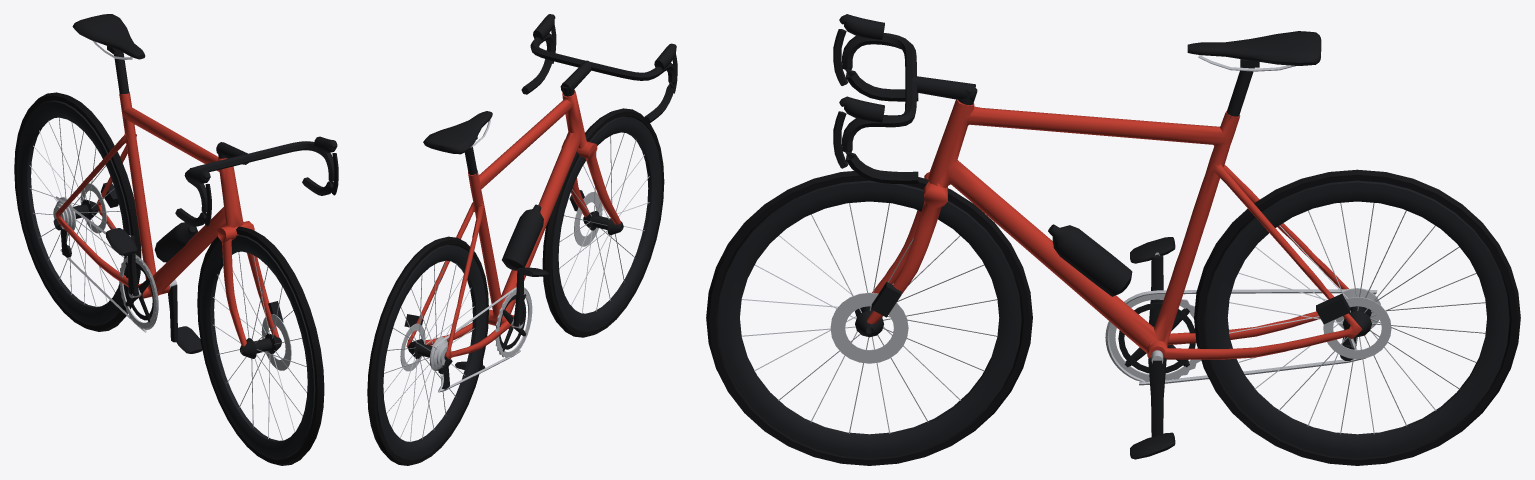
The model's file is bike.glb.
The picture shows the model from 3 angles, left to right: view 1: azimuth 30°, elevation 25°; view 2: azimuth 150°, elevation 25°; view 3: azimuth 270°, elevation 25°; orthographic projection. The views are drawn at different scales.
Parts seen in each view (by area): view 1: frame, wheel_front, wheel_rear, crankset, pedal_R, pedal_L; view 2: frame, wheel_rear, wheel_front, crankset; view 3: frame, wheel_rear, wheel_front, crankset.
Boxes of the visible parts, bbox=[...] form: frame: bbox=[53, 14, 338, 346]; wheel_front: bbox=[197, 226, 324, 465]; wheel_rear: bbox=[14, 92, 141, 331]; crankset: bbox=[119, 235, 177, 342]; pedal_R: bbox=[106, 228, 137, 255]; pedal_L: bbox=[176, 326, 202, 353]; frame: bbox=[404, 14, 677, 392]; wheel_rear: bbox=[367, 236, 488, 465]; wheel_front: bbox=[542, 108, 664, 337]; crankset: bbox=[481, 268, 531, 369]; frame: bbox=[833, 14, 1377, 385]; wheel_rear: bbox=[1194, 169, 1520, 465]; wheel_front: bbox=[706, 170, 1032, 465]; crankset: bbox=[1109, 255, 1201, 436].
Size of the model in its own units: 0.436 by 0.96 by 1.67.
